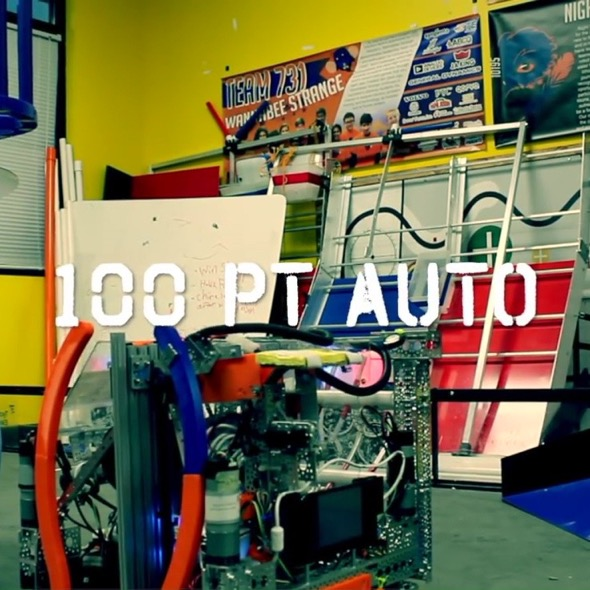robot: (33, 314, 442, 590)
